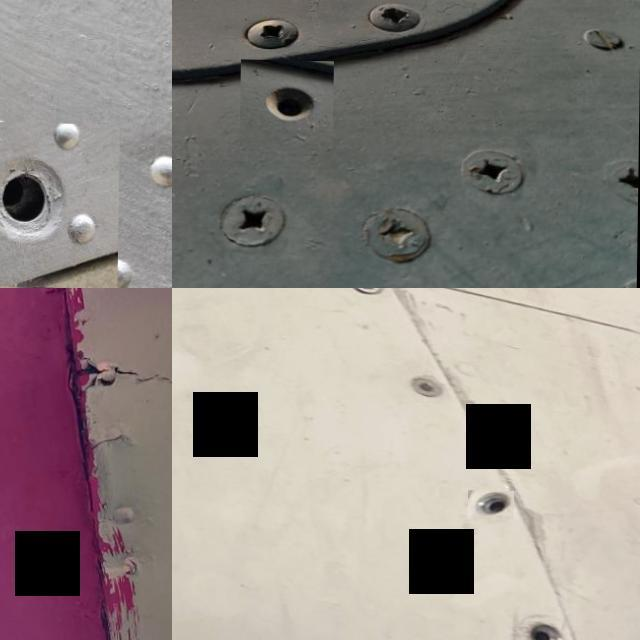Crack: (60, 348, 172, 405), (84, 421, 131, 456)
Missing_Fastener: (0, 119, 120, 287), (241, 58, 335, 146), (468, 488, 516, 518), (520, 617, 575, 640)
